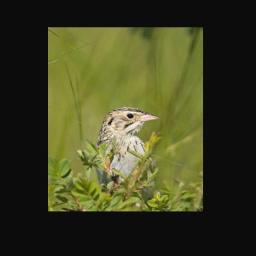Sparrow: (89, 106, 159, 204)
